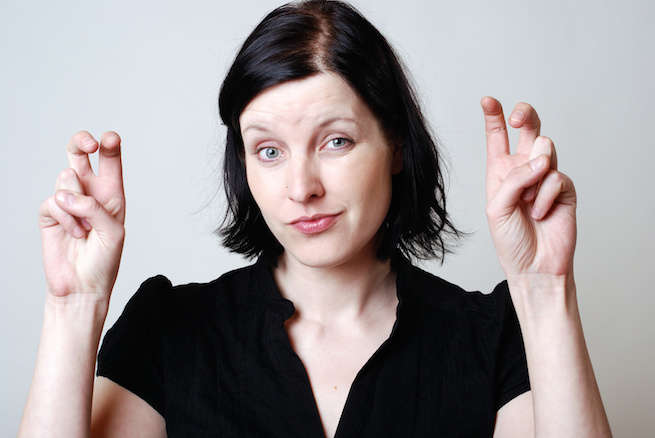face: (238, 67, 393, 267)
hand: (479, 95, 579, 281), (39, 126, 127, 300)
